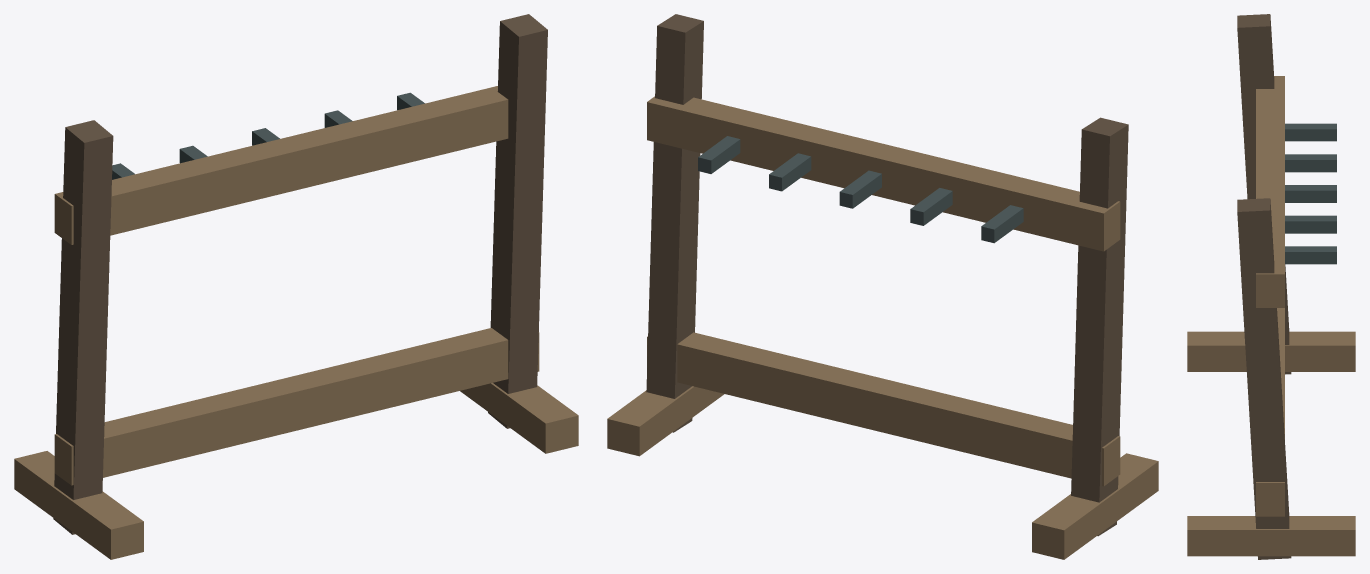
The model's file is S2_WeaponRack.fbx.
3 views of the same model, side by side, from view 1: azimuth 30°, elevation 25°; view 2: azimuth 150°, elevation 25°; view 3: azimuth 270°, elevation 25° (orthographic). The views are drawn at different scales.
Visible parts, largest first — view 1: S2_WeaponRack; view 2: S2_WeaponRack; view 3: S2_WeaponRack.
Part boxes in pixels (box(x1,y1,x2,y2)): S2_WeaponRack: box(14, 14, 578, 559); S2_WeaponRack: box(607, 14, 1158, 559); S2_WeaponRack: box(1187, 14, 1355, 559).
Bounding box in the file's own units: 2.26 × 1.86 × 0.81.
